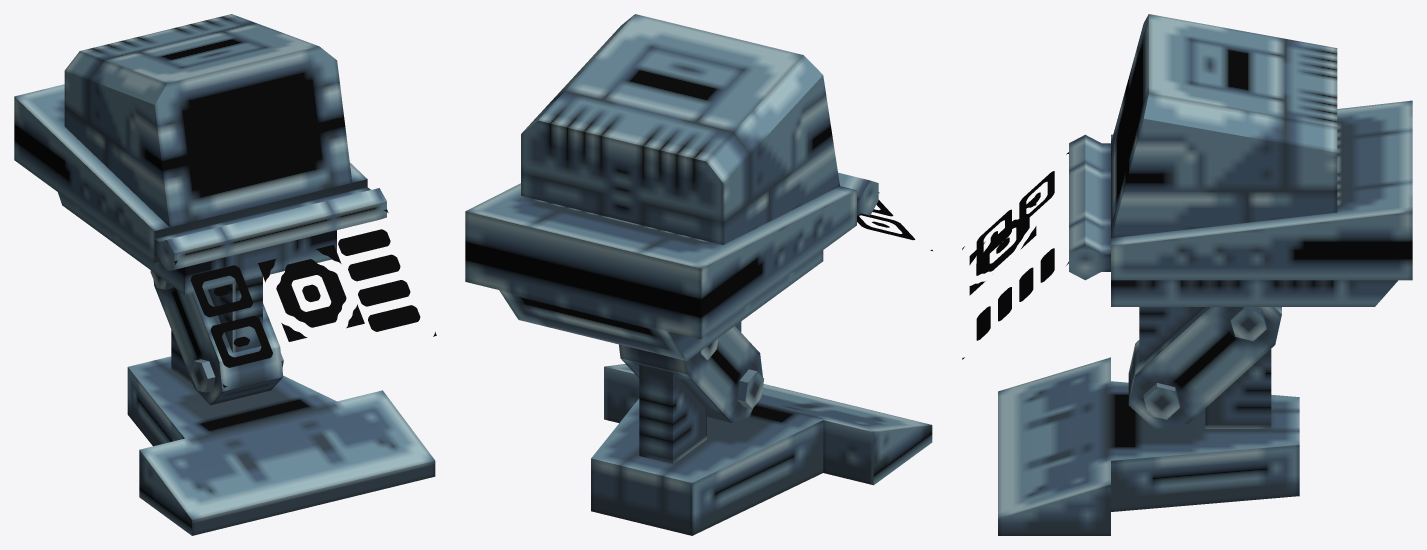
File: CommandConsole_Small.fbx
The picture shows the model from 3 angles, left to right: view 1: azimuth 30°, elevation 25°; view 2: azimuth 150°, elevation 25°; view 3: azimuth 270°, elevation 25°; orthographic projection. The views are drawn at different scales.
Visible parts, largest first — view 1: Console, Hologram2, Hologram1; view 2: Console, Hologram2; view 3: Console, Hologram2, Hologram1.
Part boxes in pixels (x1=…): Console: x1=14, y1=14, x2=435, y2=535; Hologram2: x1=174, y1=209, x2=436, y2=387; Hologram1: x1=258, y1=244, x2=364, y2=341; Console: x1=465, y1=14, x2=932, y2=535; Hologram2: x1=857, y1=192, x2=932, y2=250; Console: x1=998, y1=14, x2=1412, y2=535; Hologram2: x1=962, y1=152, x2=1068, y2=359; Hologram1: x1=969, y1=196, x2=1036, y2=295.
Bounding box in the file's own units: 8 × 12.25 × 11.94.
